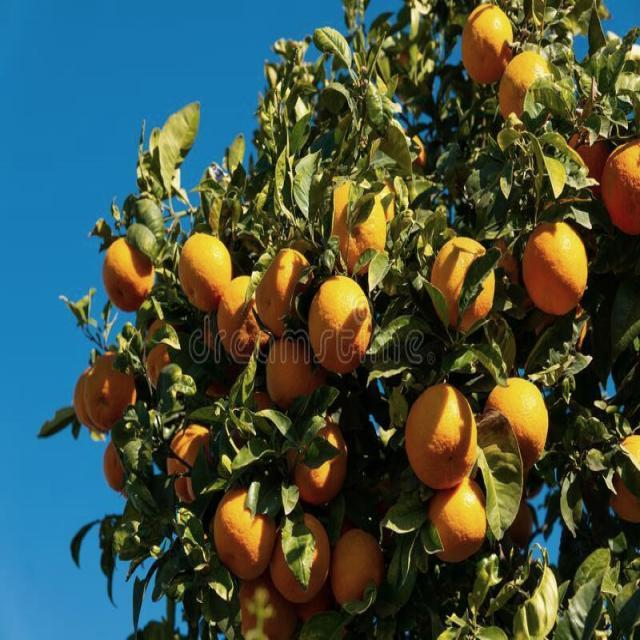Jeruk Sudah Matang: (401, 382, 476, 493), (430, 228, 500, 340), (250, 241, 324, 342), (283, 408, 354, 512), (422, 468, 492, 568), (484, 372, 550, 472), (307, 278, 373, 376), (214, 270, 276, 368), (523, 223, 589, 314), (212, 490, 279, 579), (262, 326, 326, 418), (74, 352, 135, 439), (178, 234, 231, 315), (462, 4, 514, 85), (329, 530, 383, 606), (600, 143, 640, 237), (102, 239, 152, 312)
